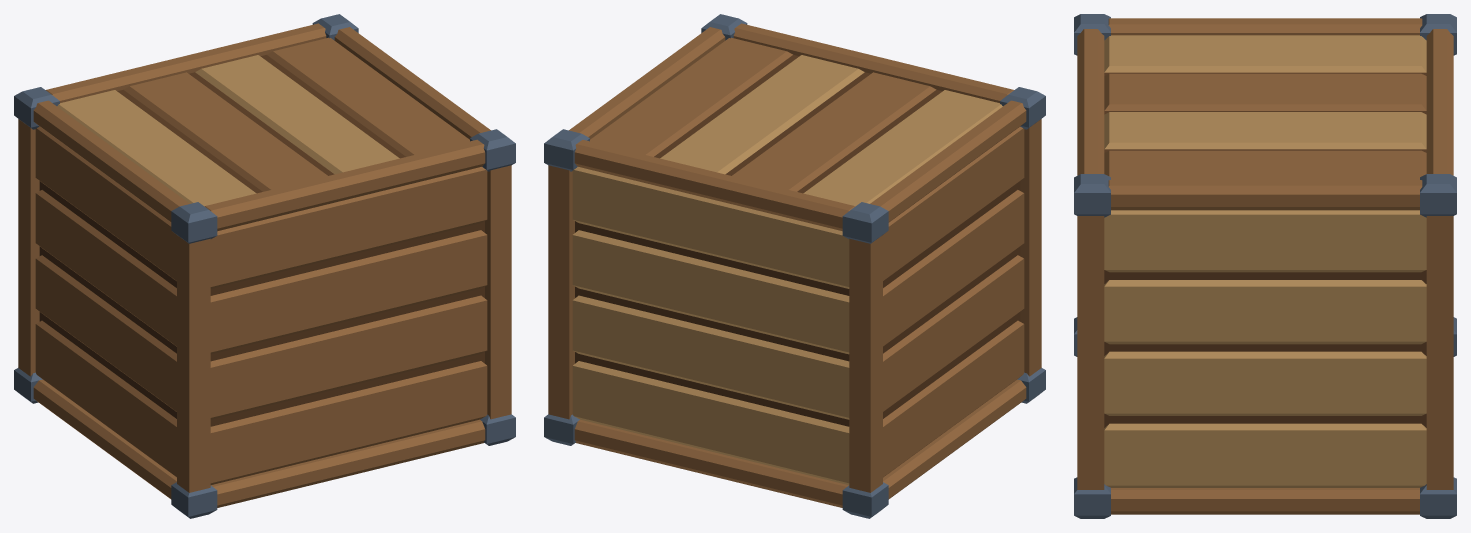
Rendered from Crate_15.glb.
3 renders of one model, left to right at view 1: azimuth 30°, elevation 25°; view 2: azimuth 150°, elevation 25°; view 3: azimuth 270°, elevation 25°, orthographic. The views are drawn at different scales.
Parts seen in each view (by area): view 1: Crate_15; view 2: Crate_15; view 3: Crate_15.
Part boxes in pixels (box(x1,y1,x2,y2)): Crate_15: box(14, 14, 515, 518); Crate_15: box(544, 14, 1045, 518); Crate_15: box(1074, 14, 1456, 518).
Size of the model in its own units: 2.47 by 2.19 by 2.27.
